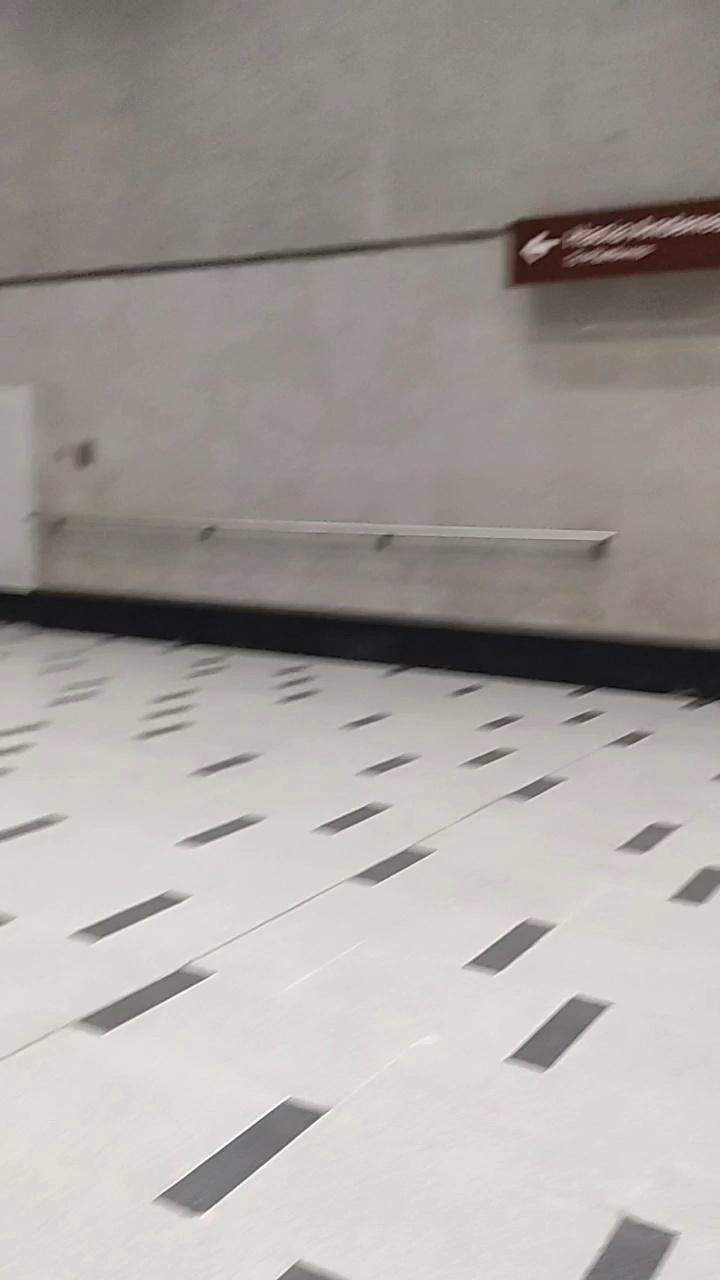left arrow: (518, 226, 560, 264)
